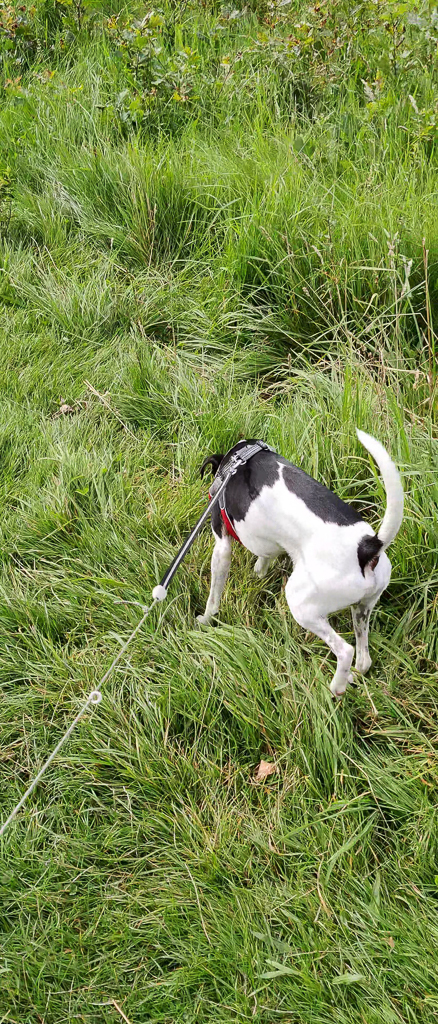Dog: (182, 417, 415, 712)
